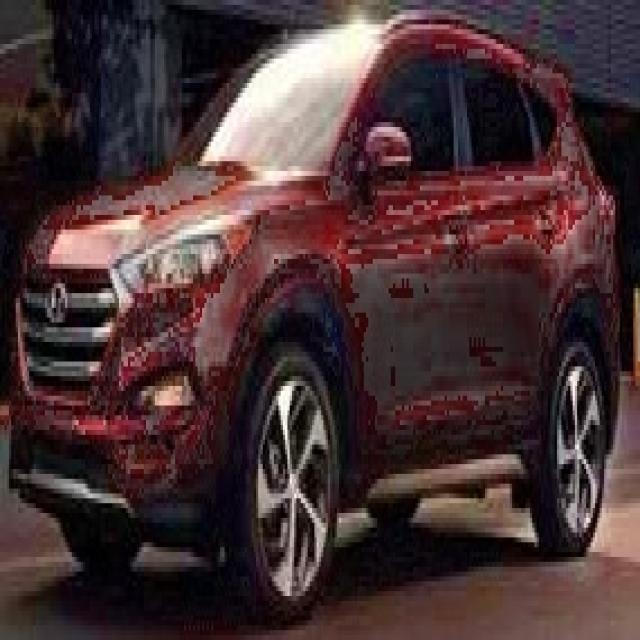maroon: (16, 17, 622, 579)
